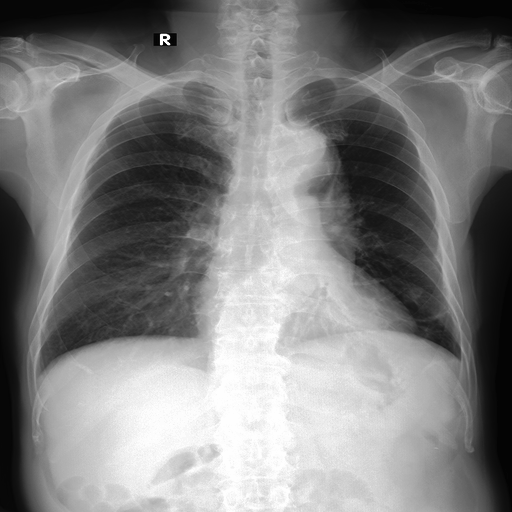Calcification: (455, 351, 467, 367)
Consolidation: (268, 123, 355, 194)
Nodule/Mass: (190, 286, 414, 350)
Other lesion: (402, 286, 423, 303)
Pleural effusion: (455, 351, 467, 367)
Pleural thickening: (402, 286, 423, 303)
Pneumothorax: (116, 294, 153, 336), (422, 299, 452, 320)
